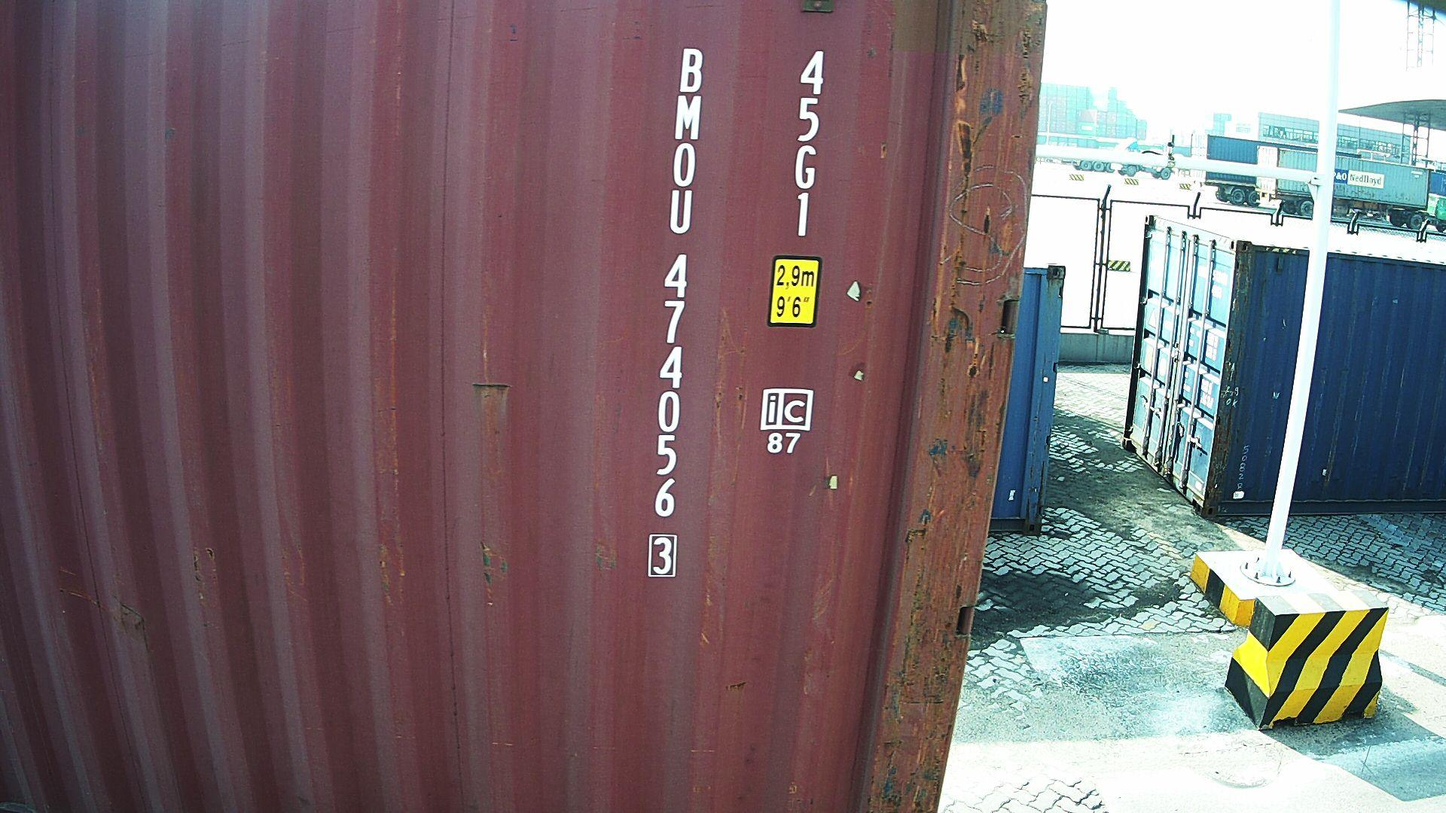container-numbers: (642, 44, 704, 583), (786, 47, 830, 242)
